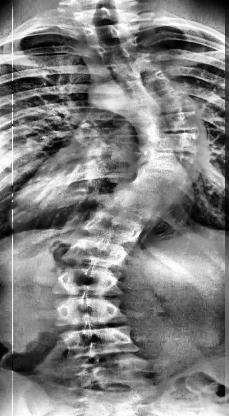Vertebrae: (63, 351, 150, 389), (56, 326, 145, 360), (76, 207, 148, 246), (49, 264, 125, 300), (103, 184, 177, 220), (60, 233, 132, 267), (51, 298, 127, 330), (138, 126, 210, 158), (134, 148, 205, 178), (133, 86, 197, 118), (128, 165, 190, 196), (121, 71, 181, 101), (138, 109, 205, 135), (89, 37, 151, 64), (106, 54, 167, 80), (76, 21, 140, 44), (70, 6, 138, 26)
